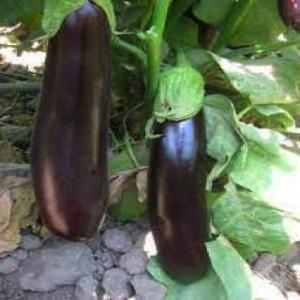eggplant: (32, 0, 116, 241), (147, 64, 205, 282)
